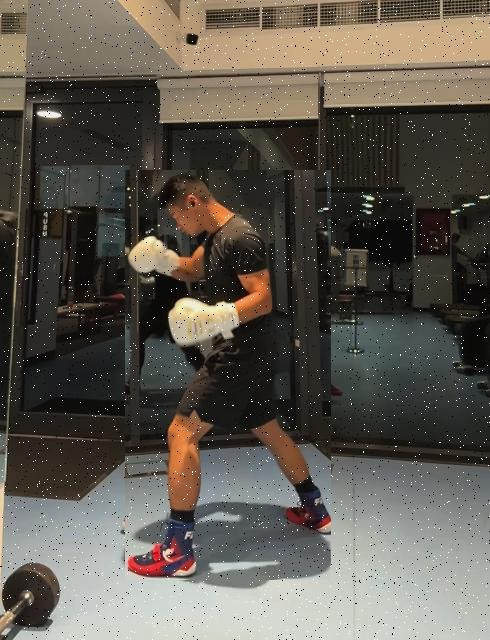punch: (125, 170, 331, 580)
